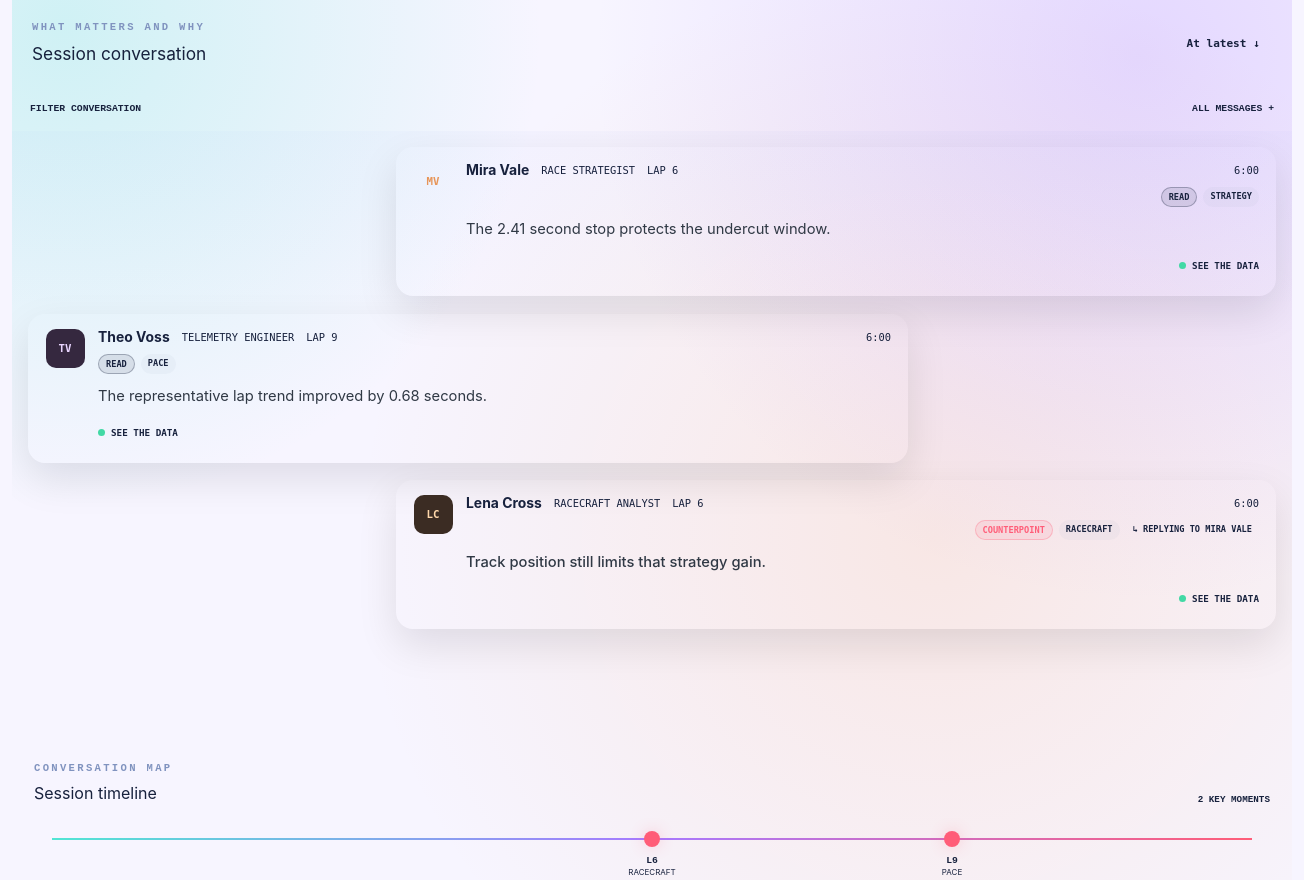
Test case: MessageTimeline › renders editorial reply relationships and filters by agent, topic, and lap
expect the text "Counterpoint" is shown: met, box [974,520,1053,540]
expect the text "↳ Replying to Mira Vale" is shown: met, box [1133,524,1252,534]
Click the button "Filter conversation All messages +" at (86, 109), box [12,87,1292,131]
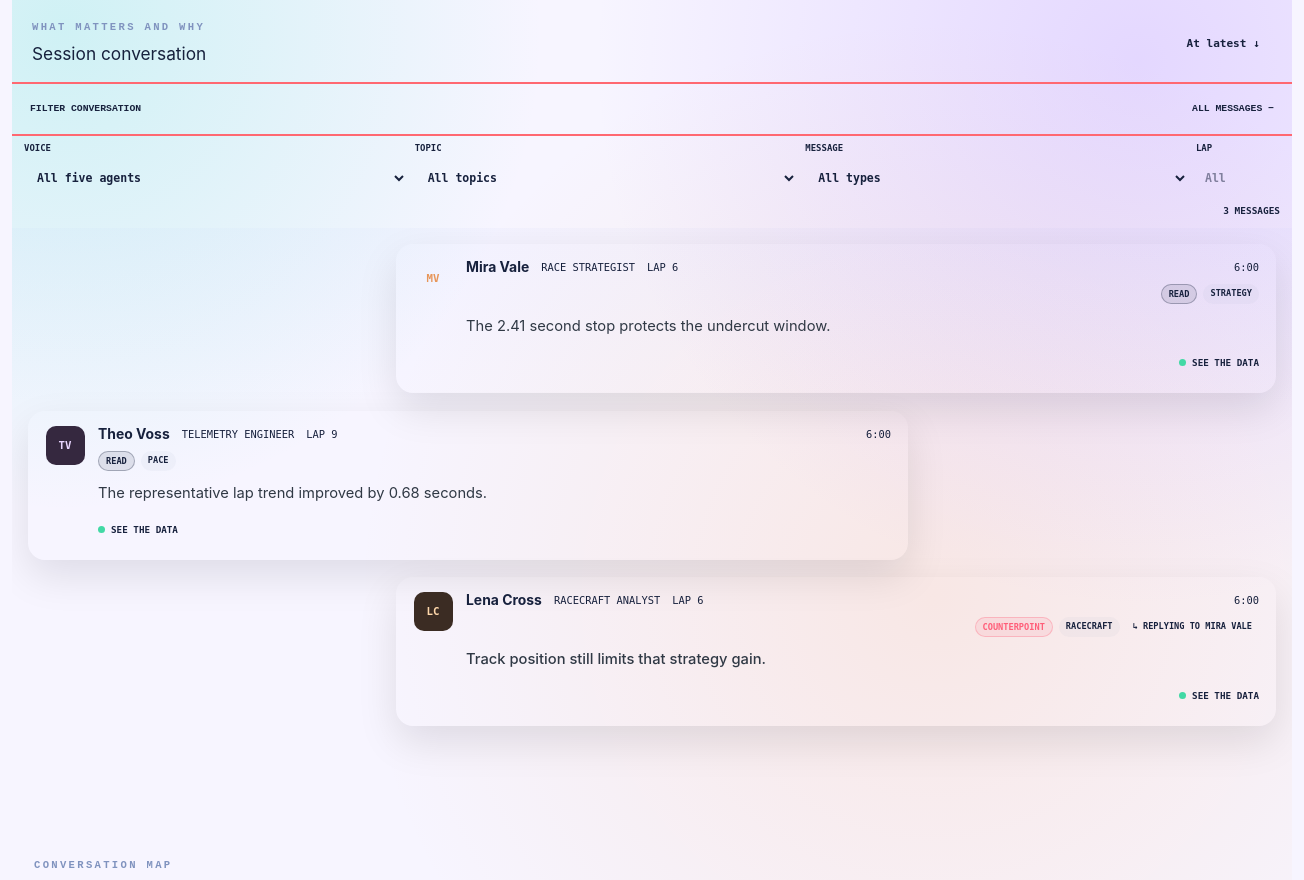
Select "Mira Vale" in the dropdown labelled "Voice" at (215, 178), box [24,159,407,197]
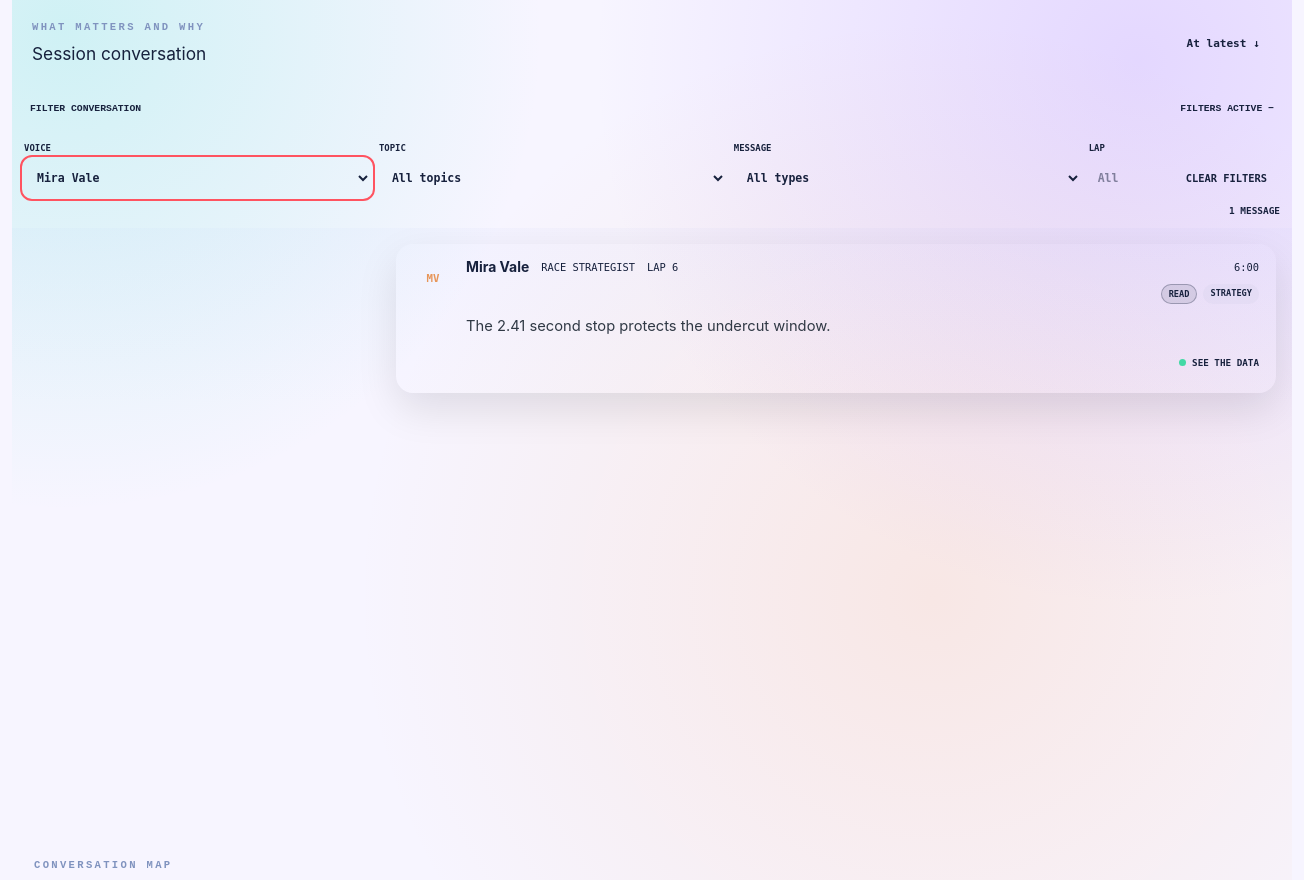
expect the text "The 2.41 second stop protects the undercut window." is shown: met, box [466,317,830,335]
expect the text "The representative lap trend improved by 0.68 seconds." is gone: met
Select "All five agents" in the dropdown labelled "Voice" at (197, 178), box [24,159,371,197]
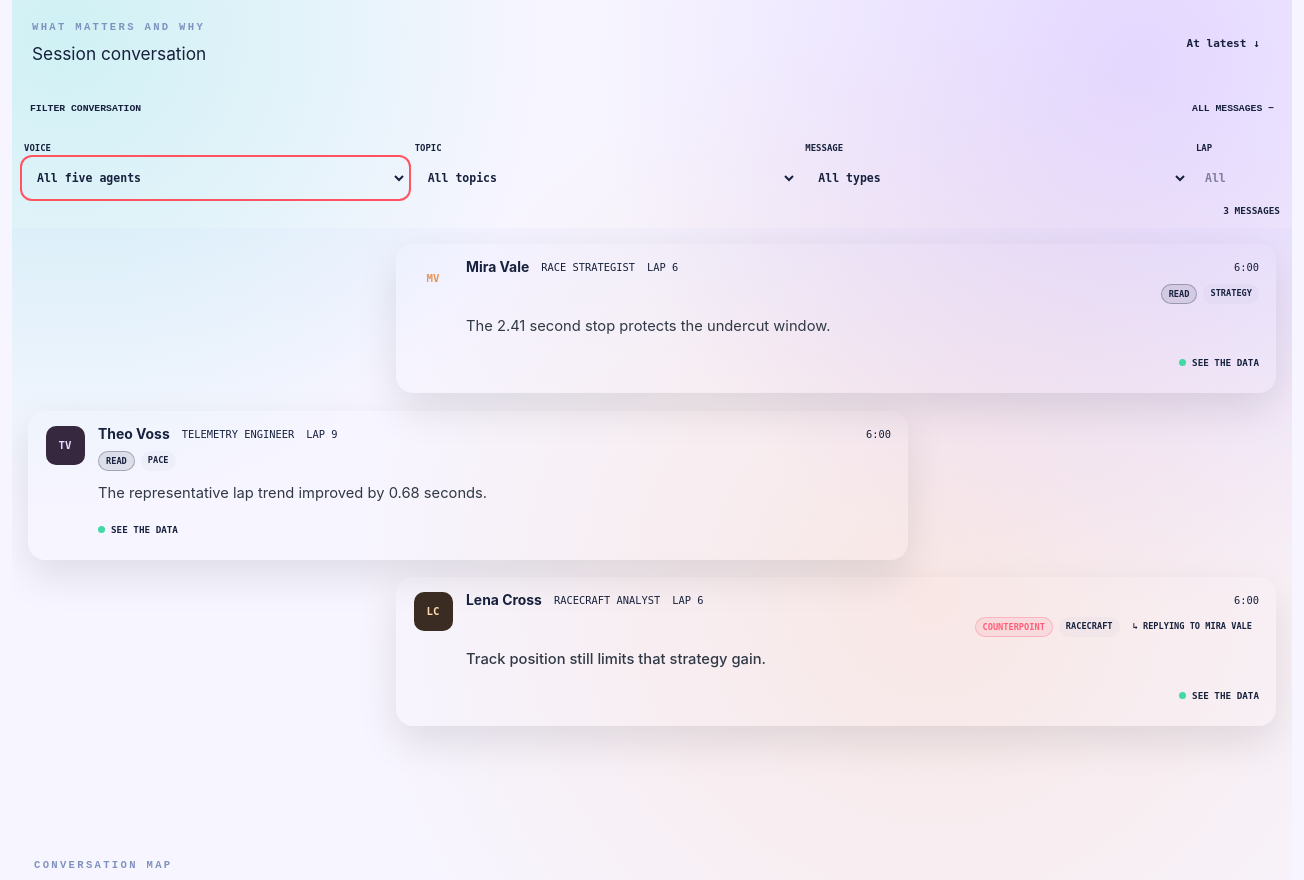
Select "pace" in the dropdown labelled "Topic" at (606, 178), box [415,159,797,197]
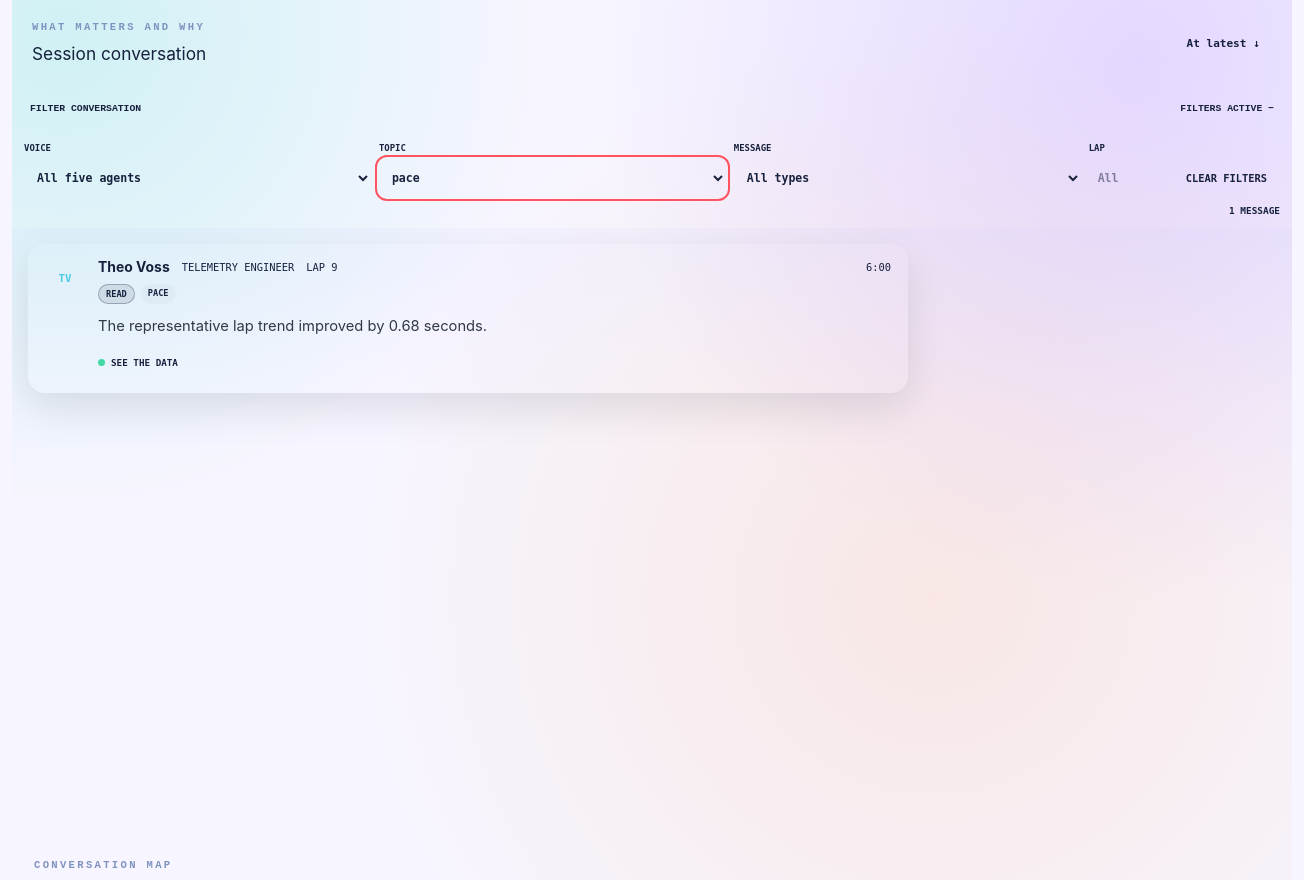
expect the text "The representative lap trend improved by 0.68 seconds." is shown: met, box [98,317,487,335]
expect the text "The 2.41 second stop protects the undercut window." is gone: met
Select "All topics" in the dropdown labelled "Topic" at (552, 178), box [379,159,726,197]
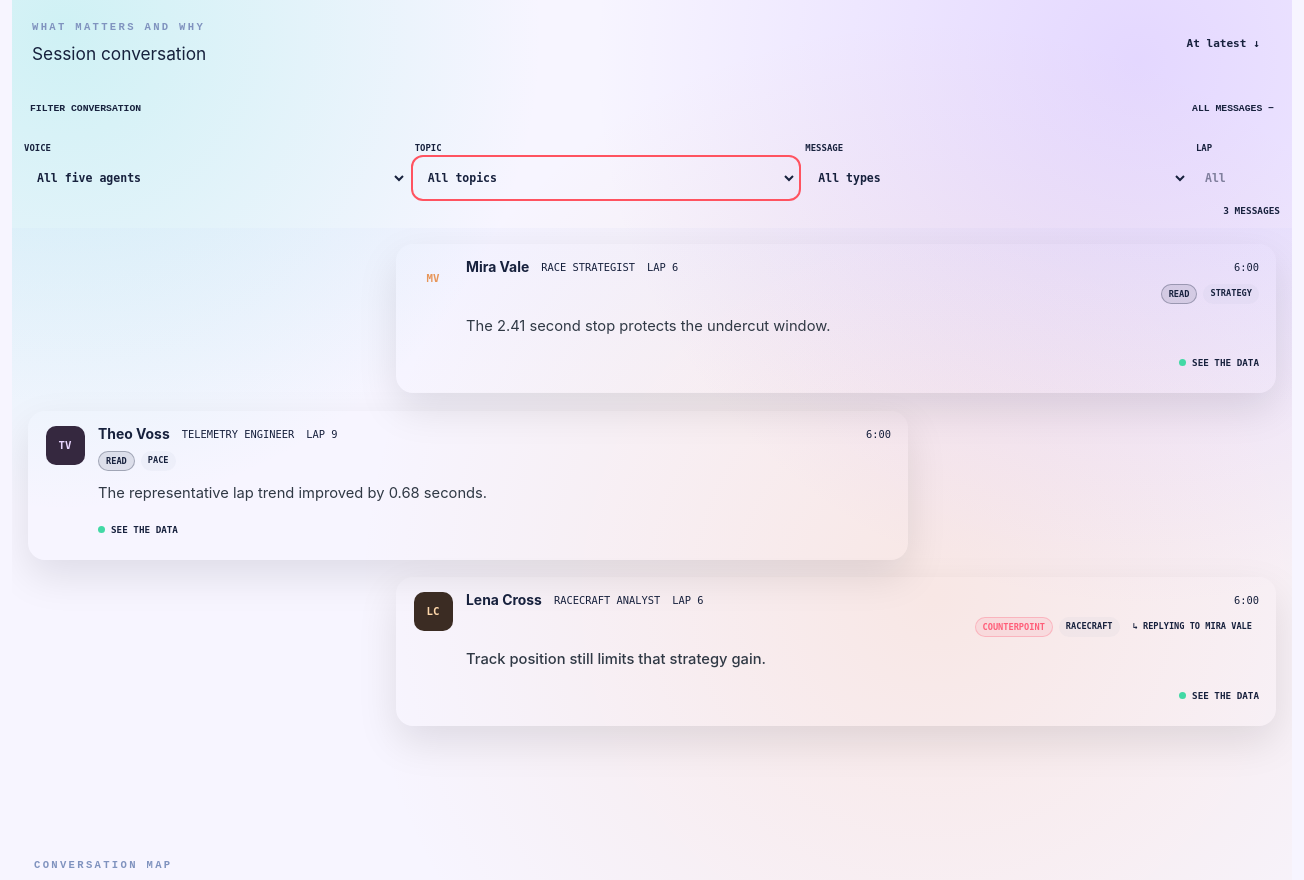
Type "6" into the number field labelled "Lap" at (1234, 178), box [1196,159,1272,197]
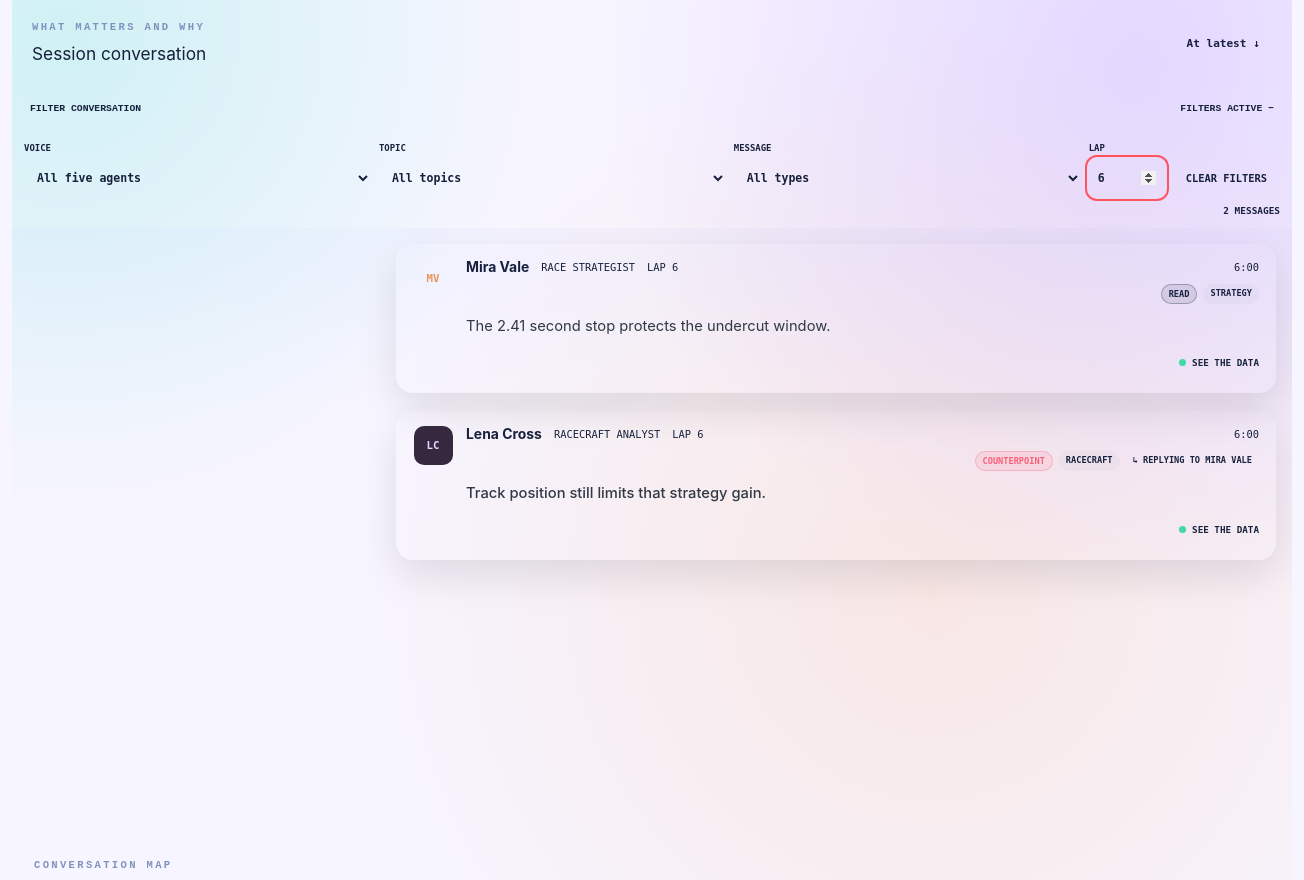
expect the text "The 2.41 second stop protects the undercut window." is shown: met, box [466,317,830,335]
expect the text "The representative lap trend improved by 0.68 seconds." is gone: met
